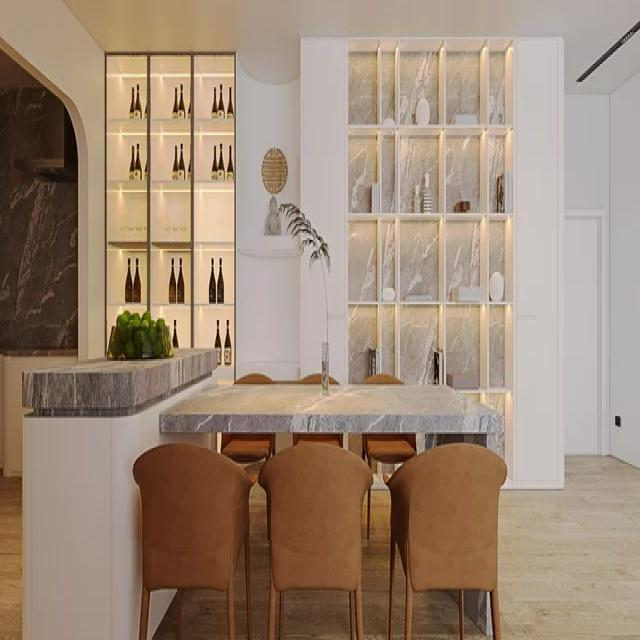obstacle: (158, 380, 504, 636), (383, 441, 507, 638), (132, 441, 254, 638), (257, 442, 373, 638)
